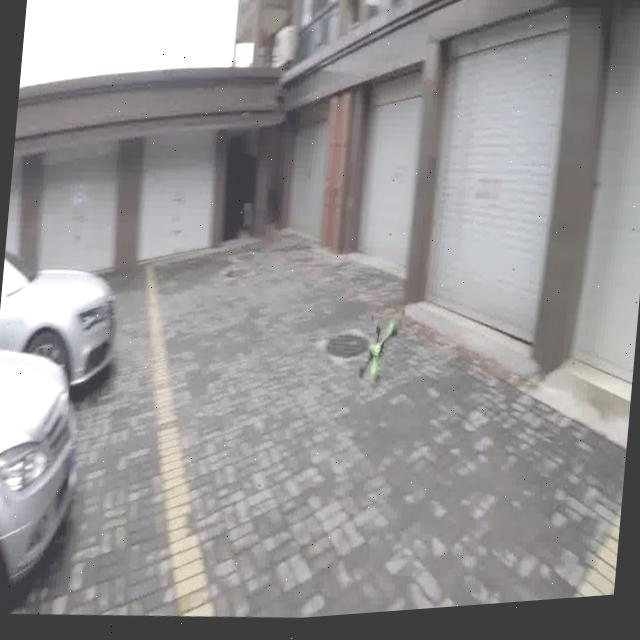drone: (351, 309, 406, 398)
